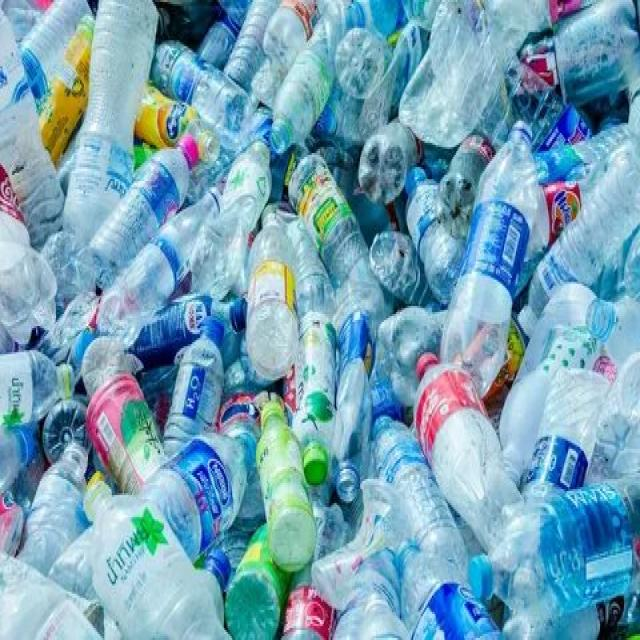blue: (141, 429, 255, 555), (152, 40, 250, 136), (136, 293, 236, 369), (406, 180, 466, 300)
